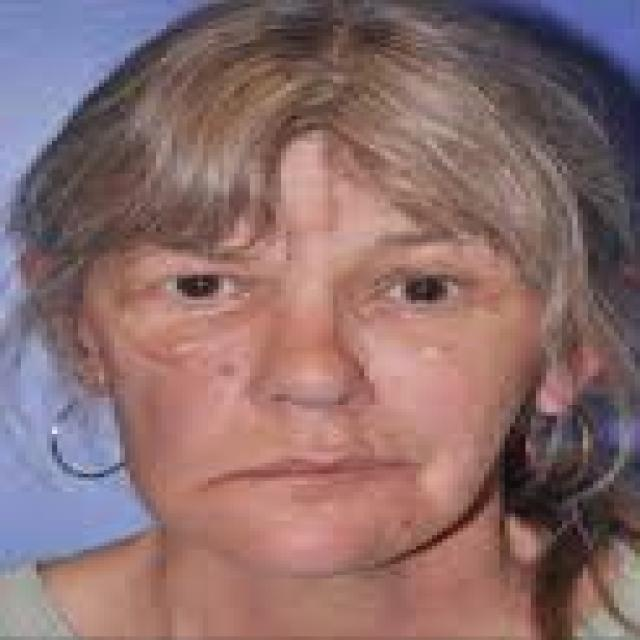stroke_face: (43, 12, 579, 594)
